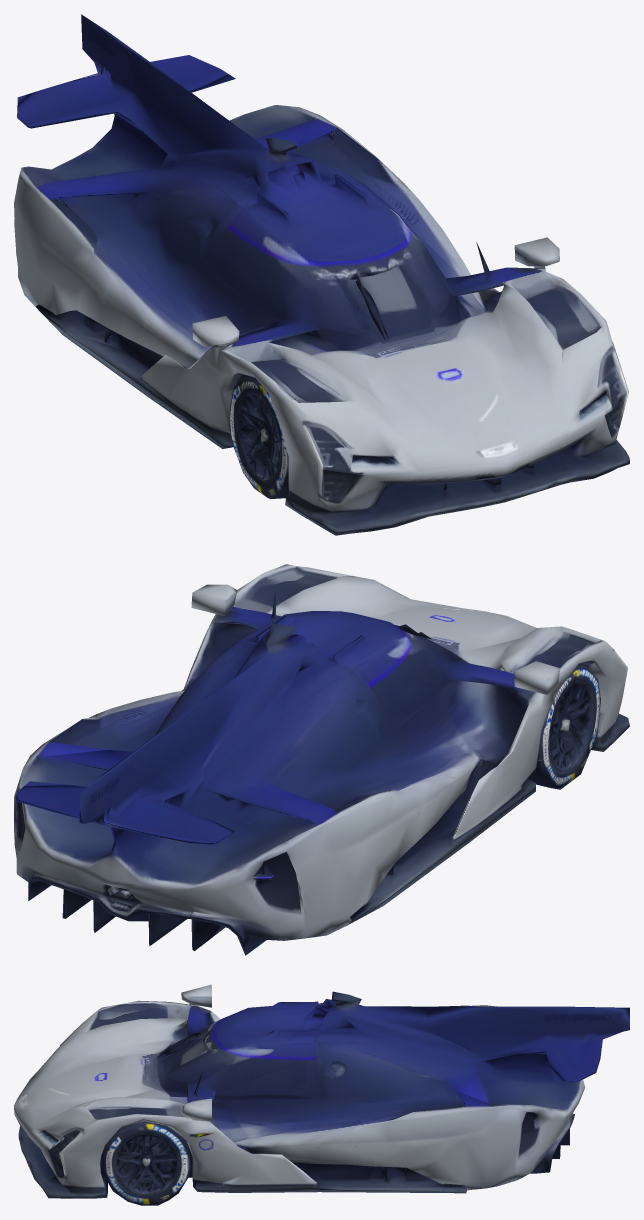
File: Cadillac V-One Concept.glb
3 renders of one model, top to bottom at view 1: azimuth 30°, elevation 25°; view 2: azimuth 150°, elevation 25°; view 3: azimuth 270°, elevation 25°, orthographic. The views are drawn at different scales.
Visible parts, largest first — view 1: tripo_node_9a84c929-bb8c-42ce-9aaf-ff1719a1863d; view 2: tripo_node_9a84c929-bb8c-42ce-9aaf-ff1719a1863d; view 3: tripo_node_9a84c929-bb8c-42ce-9aaf-ff1719a1863d.
Boxes of the visible parts, x1,y1,x2,y2 form: tripo_node_9a84c929-bb8c-42ce-9aaf-ff1719a1863d: (14,14,629,535); tripo_node_9a84c929-bb8c-42ce-9aaf-ff1719a1863d: (14,564,629,955); tripo_node_9a84c929-bb8c-42ce-9aaf-ff1719a1863d: (14,984,629,1205).
Size of the model in its own units: 0.4717 by 0.2744 by 0.9775.
Materials: 1 (1 with a texture image).
